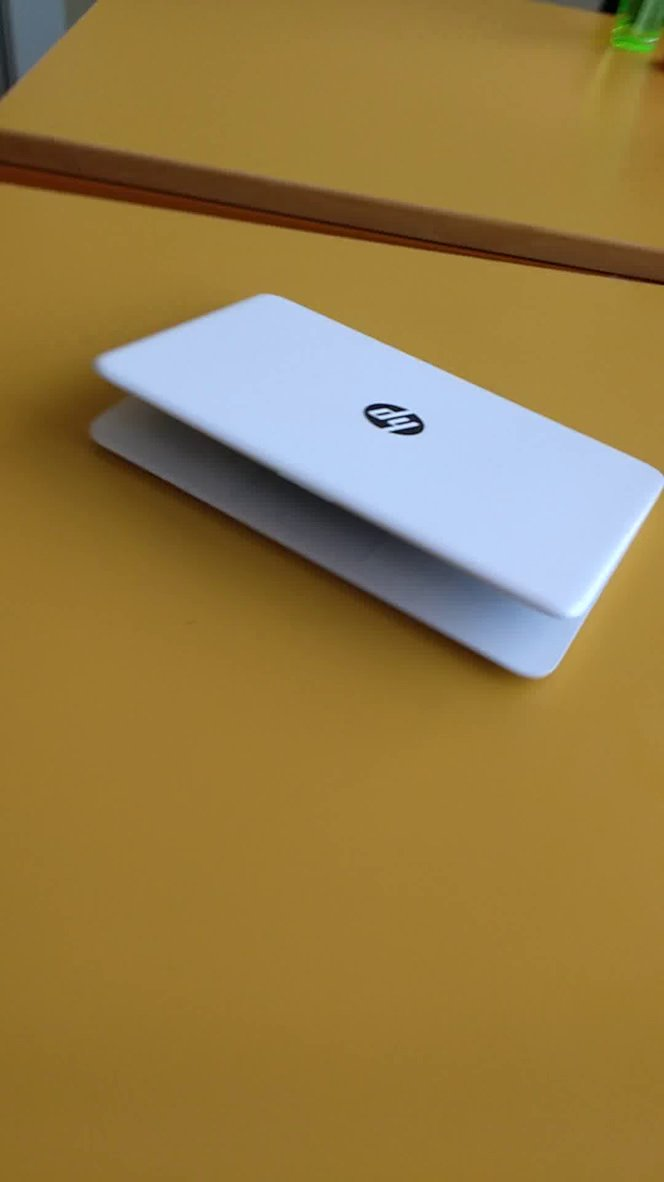laptop: (77, 280, 664, 697)
